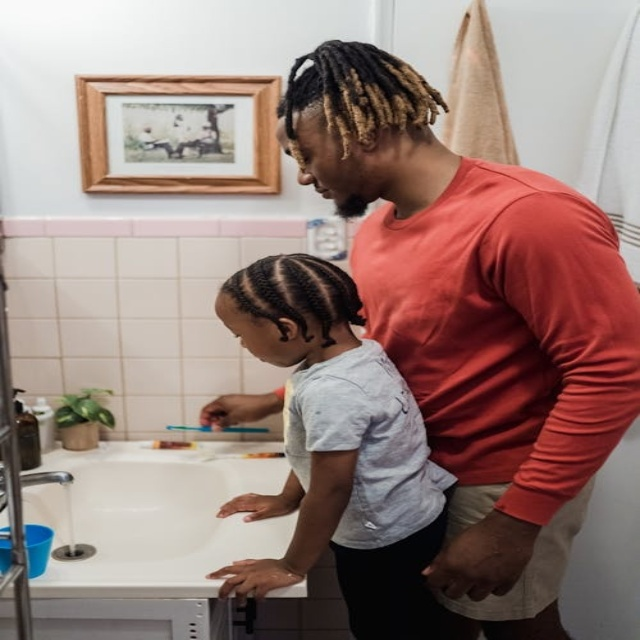Sin_gafas: (280, 143, 340, 168), (221, 321, 270, 342)
Sin_guantes: (416, 517, 531, 604), (205, 558, 304, 601), (202, 388, 288, 428), (214, 490, 295, 522)
Sin_mascara: (307, 181, 356, 214), (244, 346, 294, 369)
